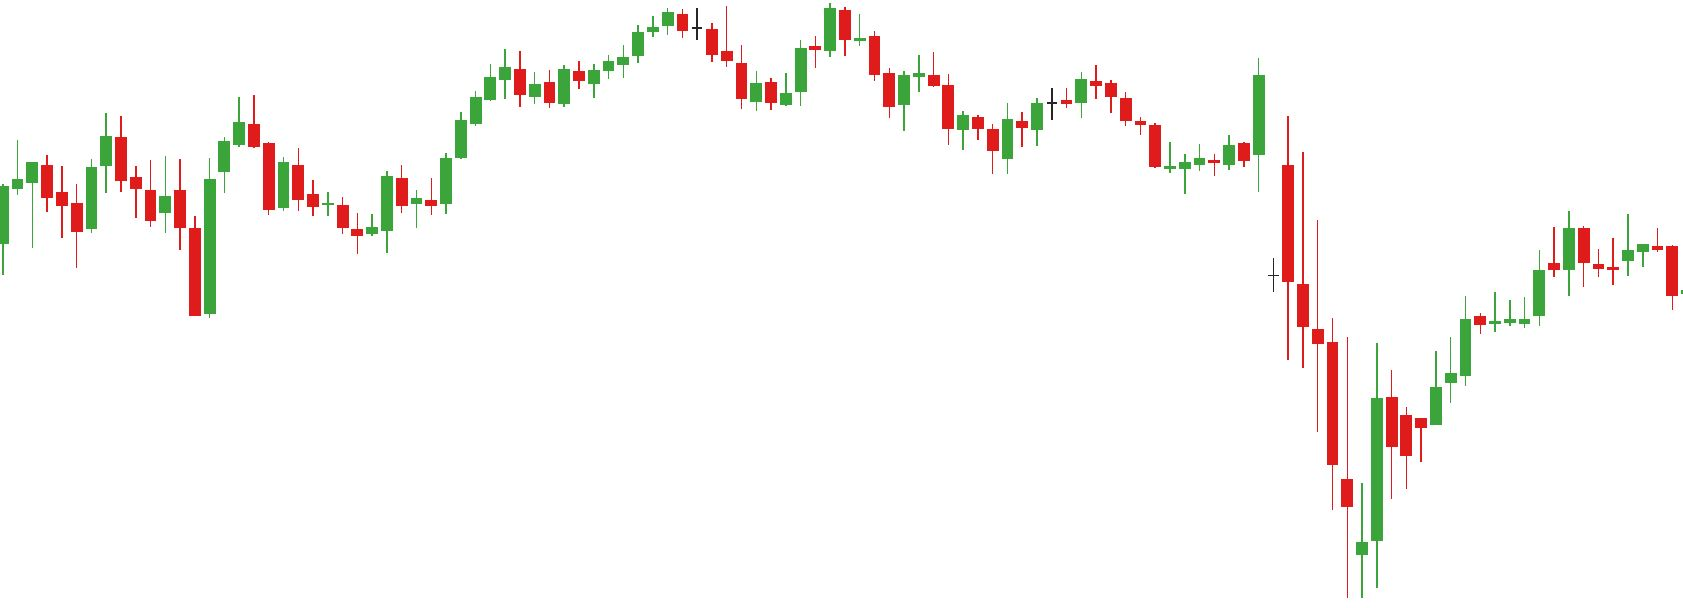buy: (69, 153, 220, 327)
